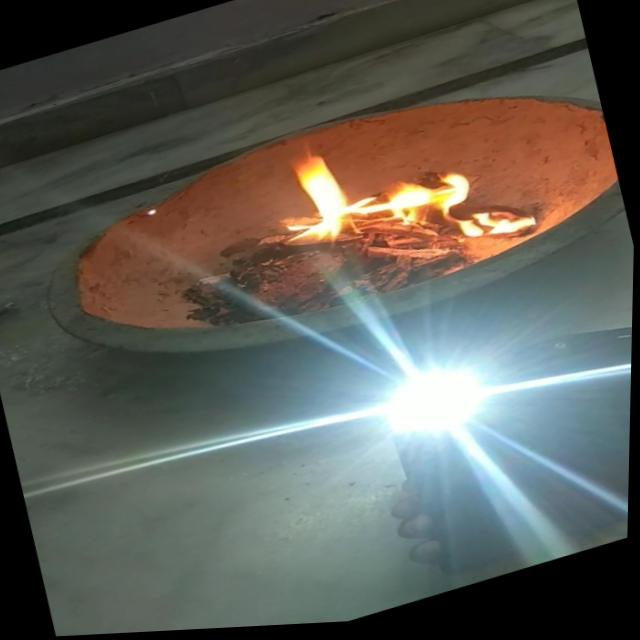fire: (247, 109, 484, 268), (449, 192, 551, 258)
